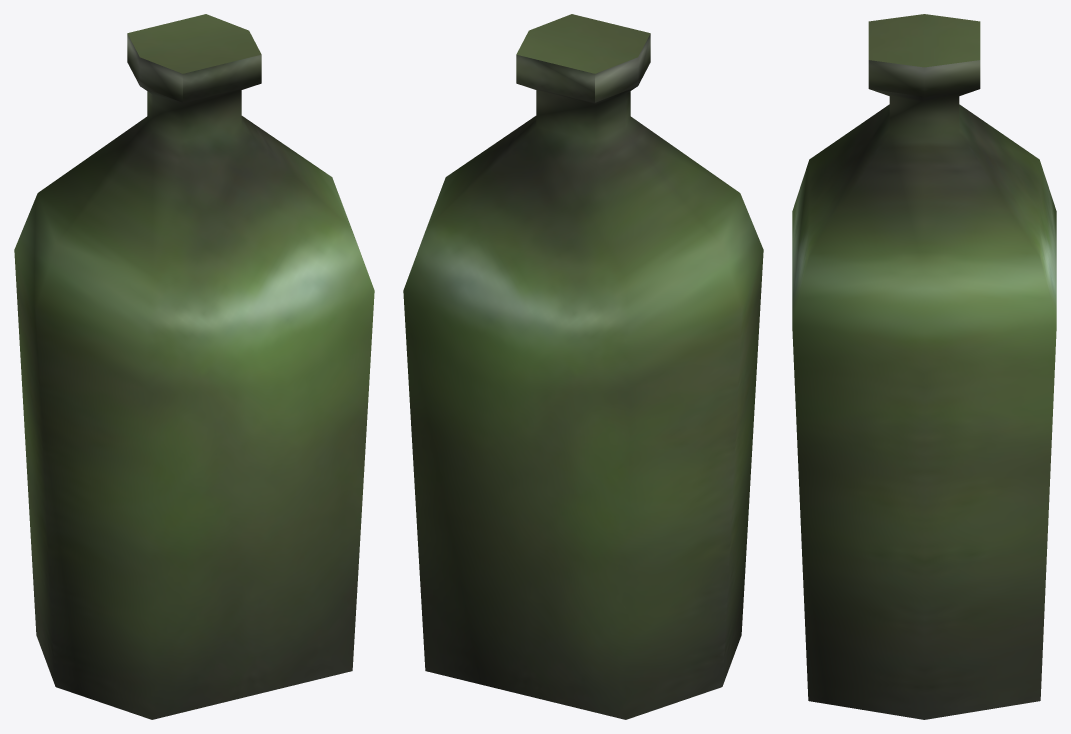
The model's file is shop_bsmith_bottleB.fbx.
The picture shows the model from 3 angles, left to right: view 1: azimuth 30°, elevation 25°; view 2: azimuth 150°, elevation 25°; view 3: azimuth 270°, elevation 25°; orthographic projection.
Visible parts, largest first — view 1: lod_high; view 2: lod_high; view 3: lod_high.
Boxes of the visible parts, x1,y1,x2,y2 form: lod_high: (14,14,374,719); lod_high: (403,14,763,719); lod_high: (792,14,1056,719).
Bounding box in the file's own units: 51.36 × 94.46 × 37.07.
Materials: 1 (1 with a texture image).
